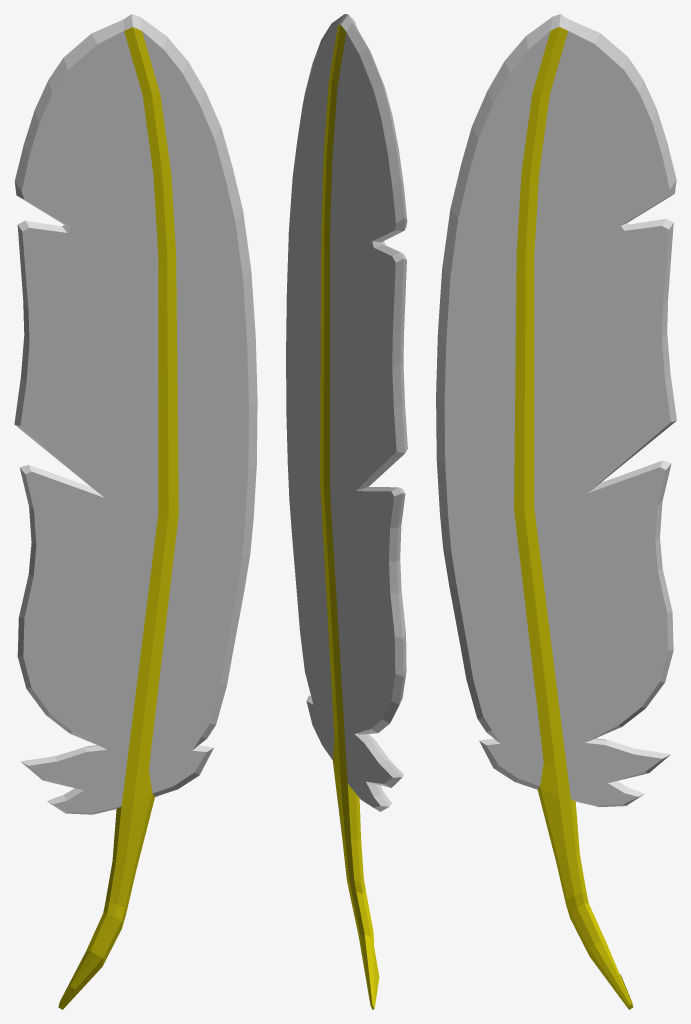
File: pióro.fbx
The picture shows the model from 3 angles, left to right: view 1: azimuth 90°, elevation 25°; view 2: azimuth 210°, elevation 25°; view 3: azimuth 270°, elevation 25°; orthographic projection. The views are drawn at different scales.
Parts seen in each view (by area): view 1: Cube; view 2: Cube; view 3: Cube.
Boxes of the visible parts, box(x1,y1,x2,y2) form: Cube: box(14, 14, 257, 1009); Cube: box(286, 14, 407, 1009); Cube: box(436, 14, 676, 1009).
Bounding box in the file's own units: 15.75 × 794 × 175.
